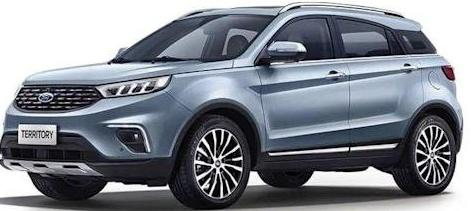Crossovers: (1, 5, 465, 209)
SUV: (1, 5, 464, 209)
